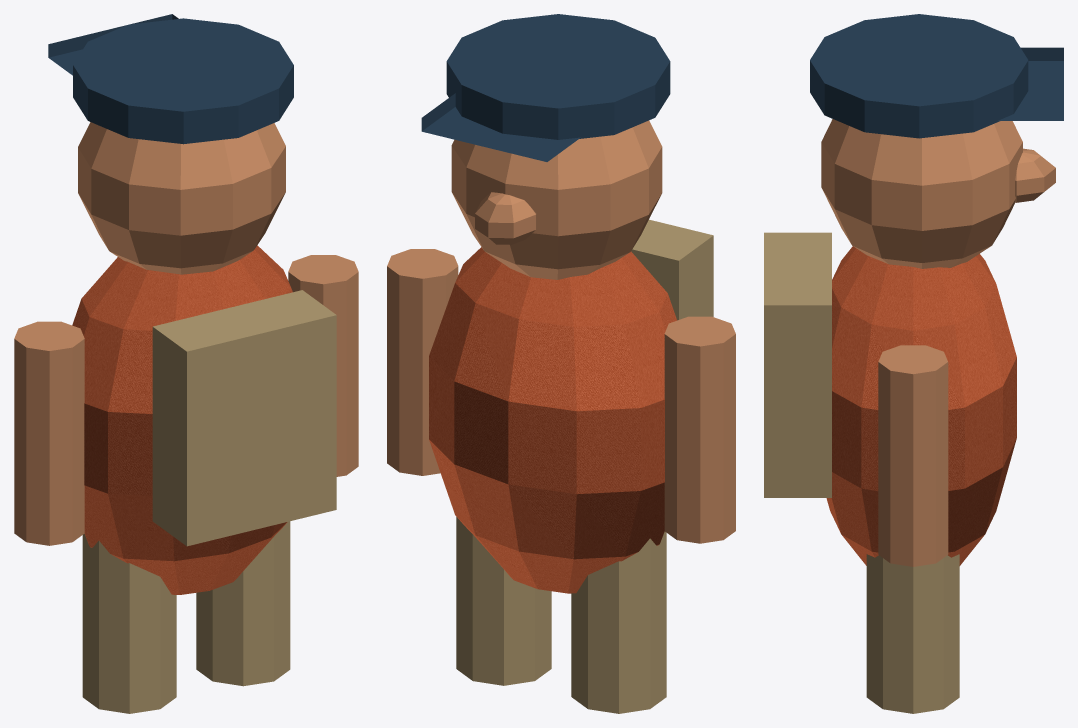
File: crew_member.obj
3 views of the same model, side by side, from view 1: azimuth 30°, elevation 25°; view 2: azimuth 150°, elevation 25°; view 3: azimuth 270°, elevation 25° (orthographic). The views are drawn at different scales.
Visible parts, largest first — view 1: Backpack, Torso, Head, Cap, LeftArm, LeftLeg, RightLeg, RightArm, CapBrim; view 2: Torso, Cap, Head, LeftArm, LeftLeg, RightArm, RightLeg, Backpack, CapBrim, Nose; view 3: Torso, Head, Cap, Backpack, RightArm, RightLeg, CapBrim, Nose.
Boxes of the visible parts, x1,y1,x2,y2 form: Backpack: [152, 290, 336, 546]; Torso: [72, 245, 292, 594]; Head: [78, 122, 285, 274]; Cap: [73, 18, 293, 144]; LeftArm: [14, 321, 84, 545]; LeftLeg: [82, 534, 176, 713]; RightLeg: [196, 521, 290, 686]; RightArm: [288, 255, 358, 476]; CapBrim: [48, 14, 178, 75]; Torso: [429, 247, 676, 593]; Cap: [446, 14, 670, 139]; Head: [451, 120, 662, 279]; LeftArm: [664, 316, 735, 543]; LeftLeg: [571, 531, 666, 713]; RightArm: [387, 249, 458, 475]; RightLeg: [456, 517, 551, 685]; Backpack: [631, 219, 713, 320]; CapBrim: [421, 93, 580, 161]; Nose: [475, 192, 536, 244]; Torso: [826, 246, 1016, 565]; Head: [821, 119, 1022, 268]; Cap: [810, 14, 1028, 138]; Backpack: [764, 232, 831, 497]; RightArm: [878, 345, 948, 566]; RightLeg: [866, 554, 959, 713]; CapBrim: [998, 47, 1063, 120]; Nose: [1014, 148, 1055, 202].
Size of the model in its own units: 1.29 by 2.26 by 1.01.
4 materials, 1 textured.
